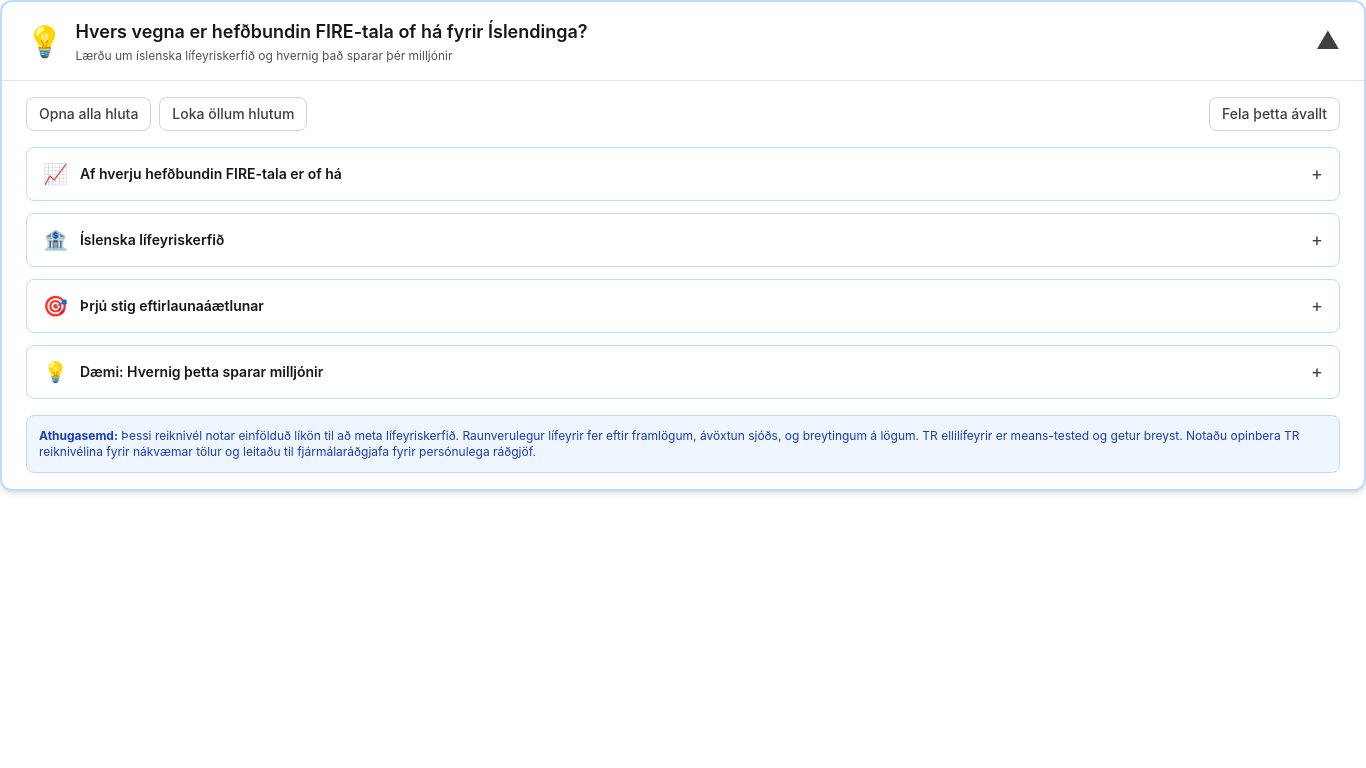
it: PensionEducationalIntro › Section Expansion › collapses a section when clicked again
The image size is (1366, 768).
Click the button "📈 Af hverju hefðbundin FIRE-tala er of há +".
click(211, 174)  # box [27,148,1339,200]
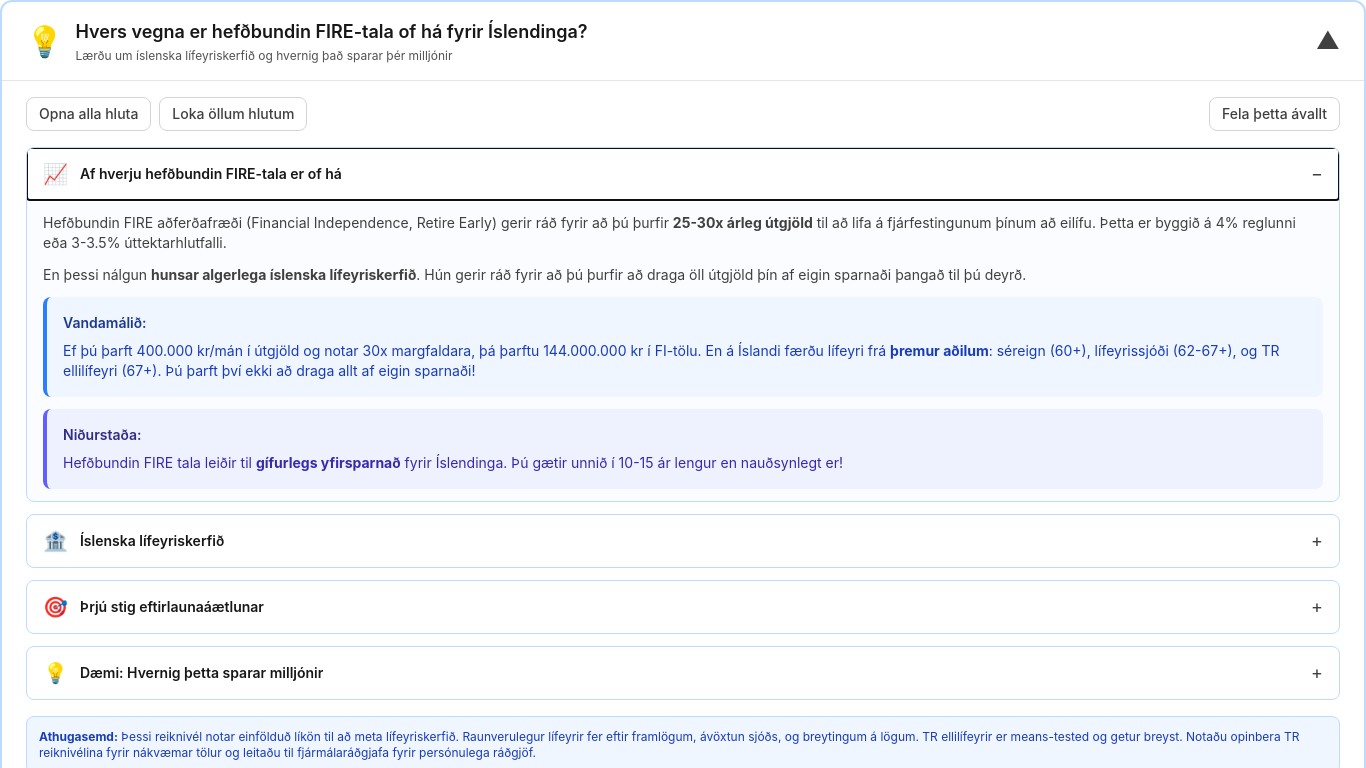
Now the text "Hefðbundin FIRE aðferðafræði" is shown, box [43,214,673,231]
Click the button "📈 Af hverju hefðbundin FIRE-tala er of há −".
click(211, 174)  # box [27,148,1339,200]
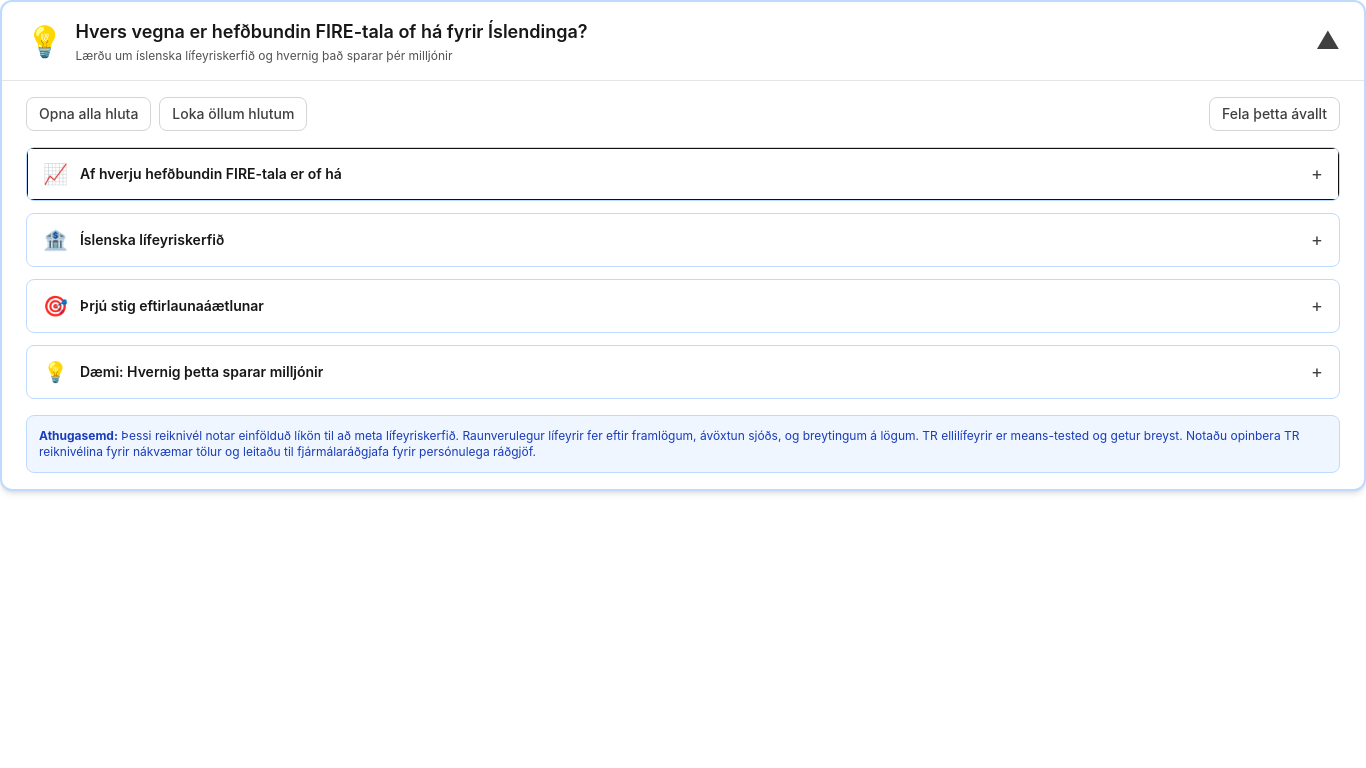
Now the text "Hefðbundin FIRE aðferðafræði" is gone
